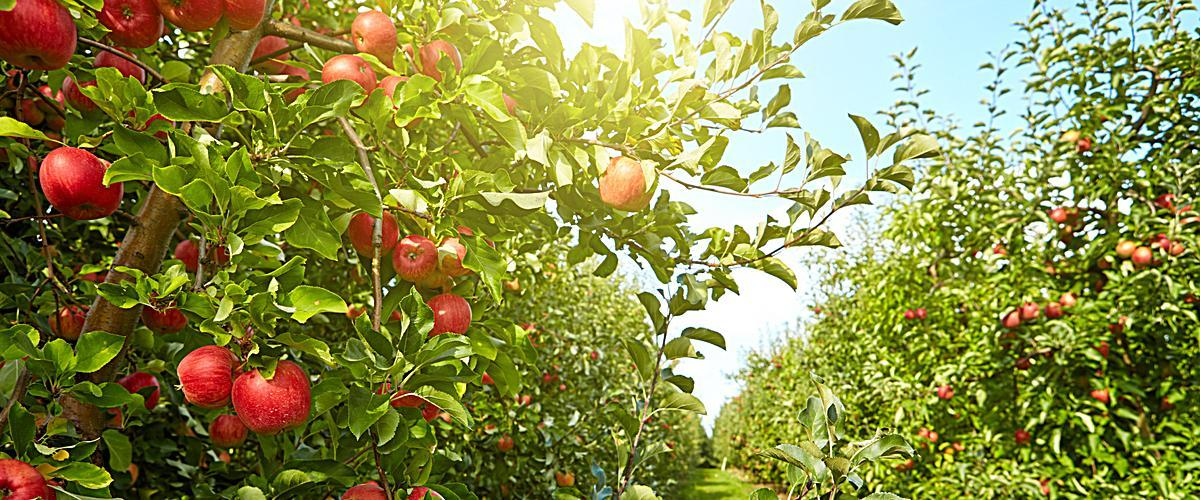apple: (40, 145, 127, 221), (231, 359, 312, 437), (1, 1, 79, 72), (177, 346, 241, 408), (95, 1, 163, 51), (323, 52, 382, 100), (352, 8, 401, 65), (598, 153, 647, 210), (93, 46, 160, 87), (350, 210, 403, 258), (393, 234, 440, 282), (1, 457, 52, 499), (417, 38, 463, 84), (159, 1, 226, 32), (426, 293, 472, 337), (140, 304, 187, 333), (174, 238, 201, 277), (437, 240, 467, 273)
